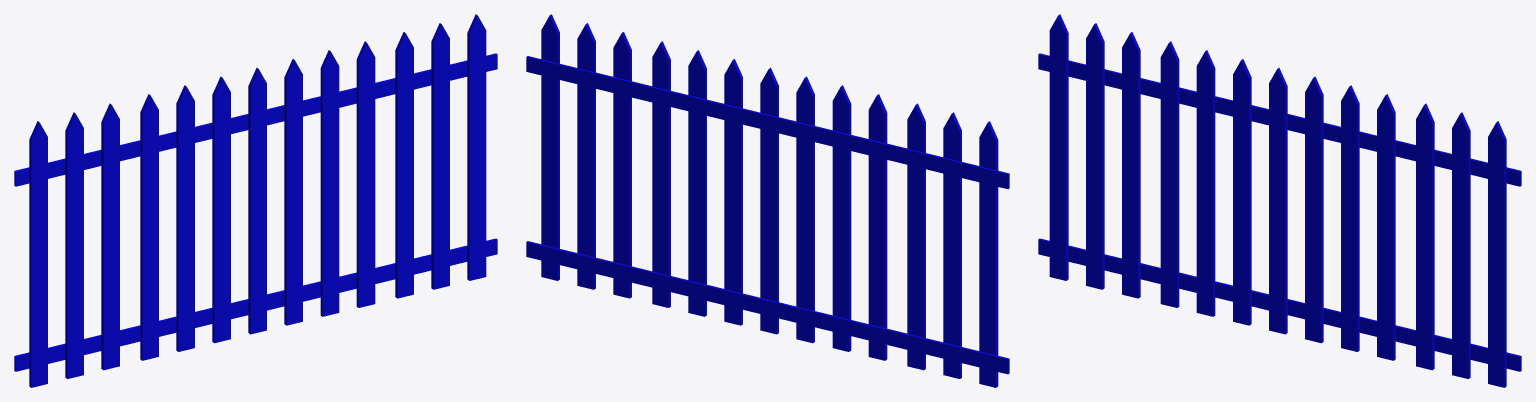
File: SM_Fence.fbx
3 views of the same model, side by side, from view 1: azimuth 30°, elevation 25°; view 2: azimuth 150°, elevation 25°; view 3: azimuth 330°, elevation 25° (orthographic).
Visible parts, largest first — view 1: Fence:group8_Fence:group7_Fence:pCube7; view 2: Fence:group8_Fence:group7_Fence:pCube7; view 3: Fence:group8_Fence:group7_Fence:pCube7.
Part boxes in pixels (left/top/right/bottom): Fence:group8_Fence:group7_Fence:pCube7: left=14, top=14, right=497, bottom=387; Fence:group8_Fence:group7_Fence:pCube7: left=526, top=14, right=1009, bottom=387; Fence:group8_Fence:group7_Fence:pCube7: left=1038, top=14, right=1521, bottom=387.
Bounding box in the file's own units: 1.74 × 0.9079 × 0.0219.
